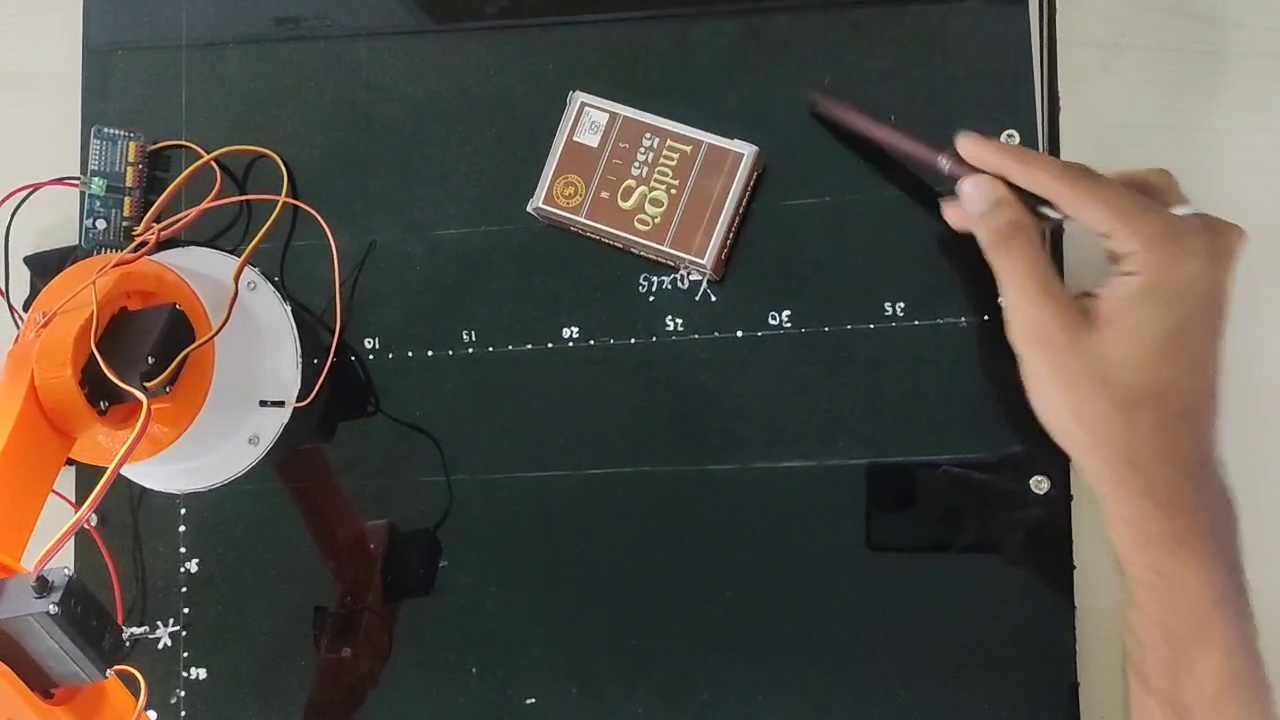BEX: (543, 95, 742, 260)
